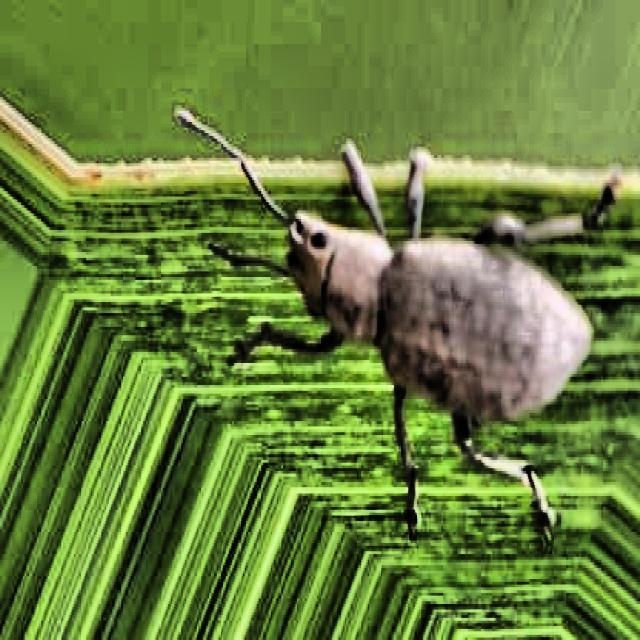Stink bug: (126, 116, 631, 482)
